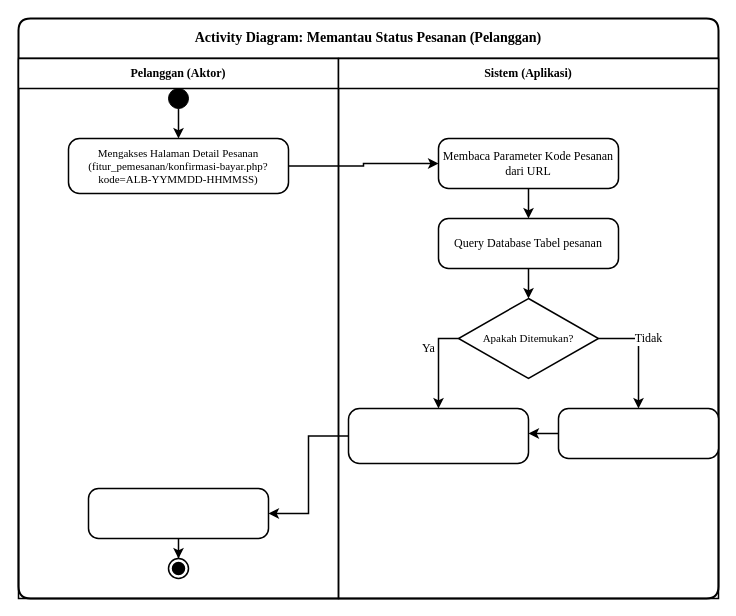
Some shapes in this 736 by 616 pixel diagram are drawn without their labels. Here are the shapes that lost their labels. From the top down, the centre of each, then its label:
[438,435]: Tampilkan Detail Pesanan Beserta Status Pembayaran & Status Pesanan Terbaru
[638,433]: Tampilkan Pesan Kesalahan: Pesanan Tidak Ditemukan
[178,513]: Membaca & Memantau Status Pesanan
